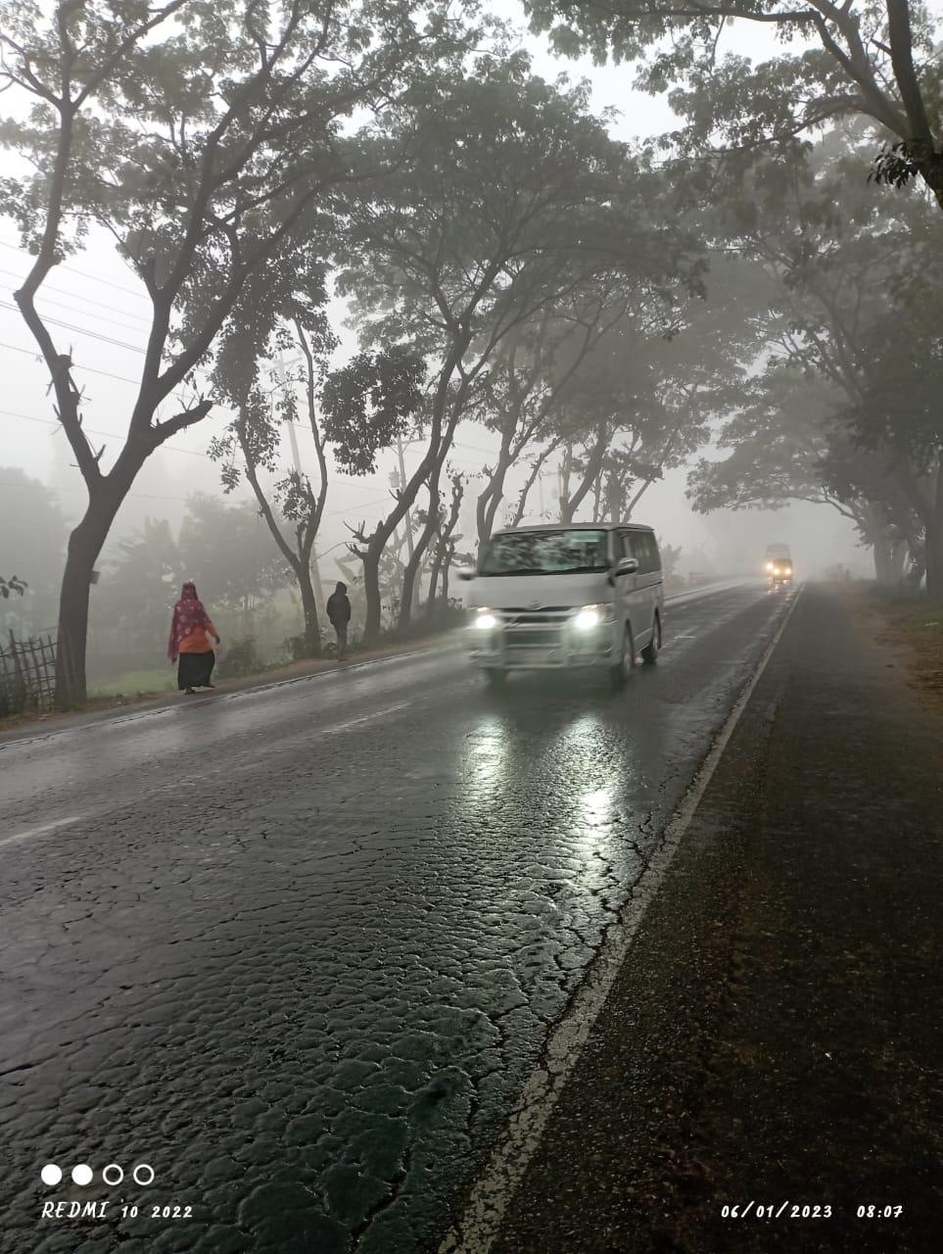Car: (451, 509, 682, 693)
